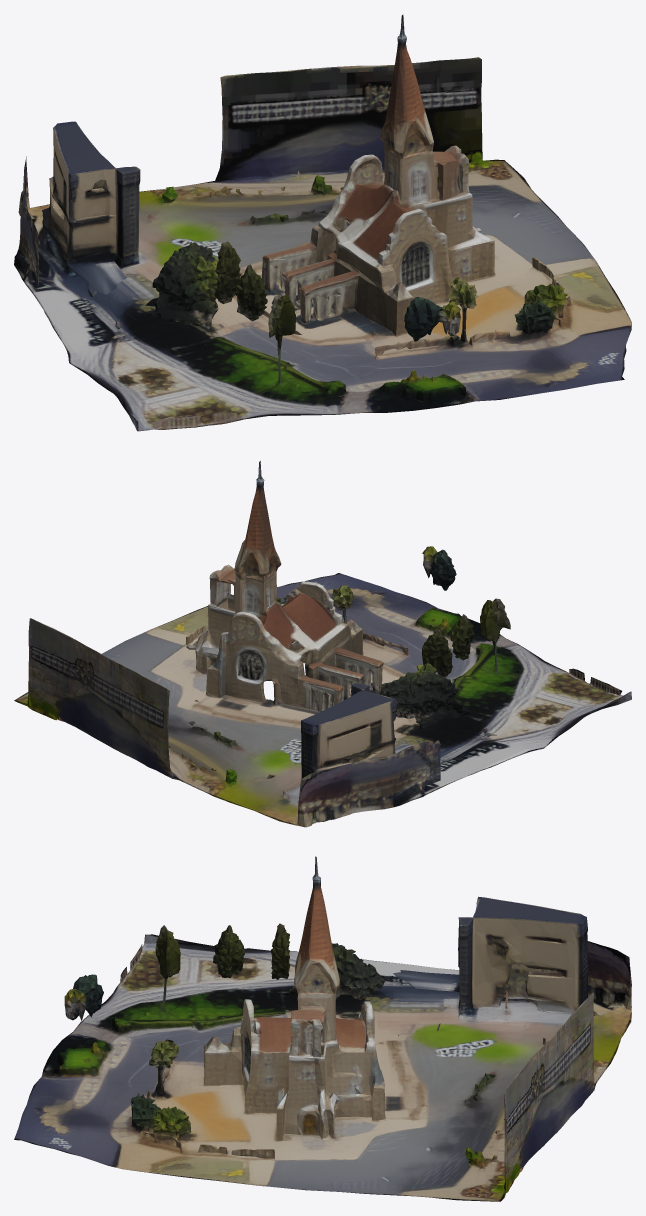
File: christuskirche-exterior.glb
The picture shows the model from 3 angles, top to bottom: view 1: azimuth 30°, elevation 25°; view 2: azimuth 150°, elevation 25°; view 3: azimuth 270°, elevation 25°; orthographic projection. The views are drawn at different scales.
Visible parts, largest first — view 1: world; view 2: world; view 3: world.
Boxes of the visible parts, x1,y1,x2,y2 form: world: (14,15,631,431); world: (14,461,631,827); world: (14,856,631,1201).
Bounding box in the file's own units: 0.988 × 0.4587 × 0.9994.
Materials: 1 (1 with a texture image).
